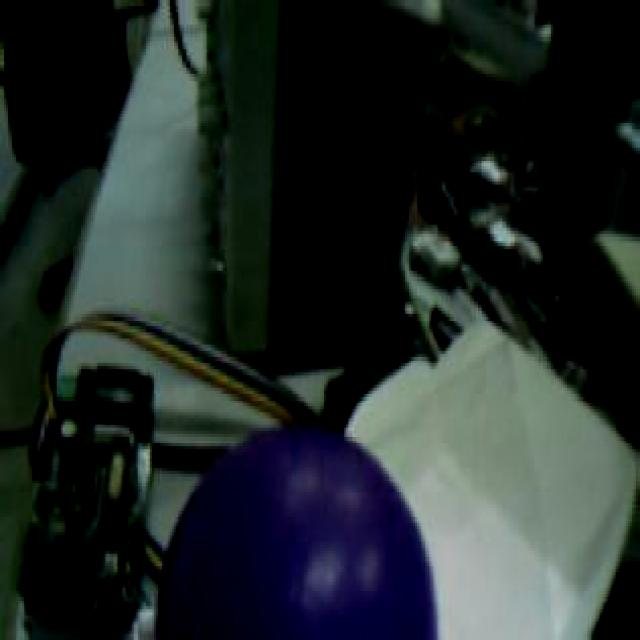BallPurple: (156, 425, 436, 640)
